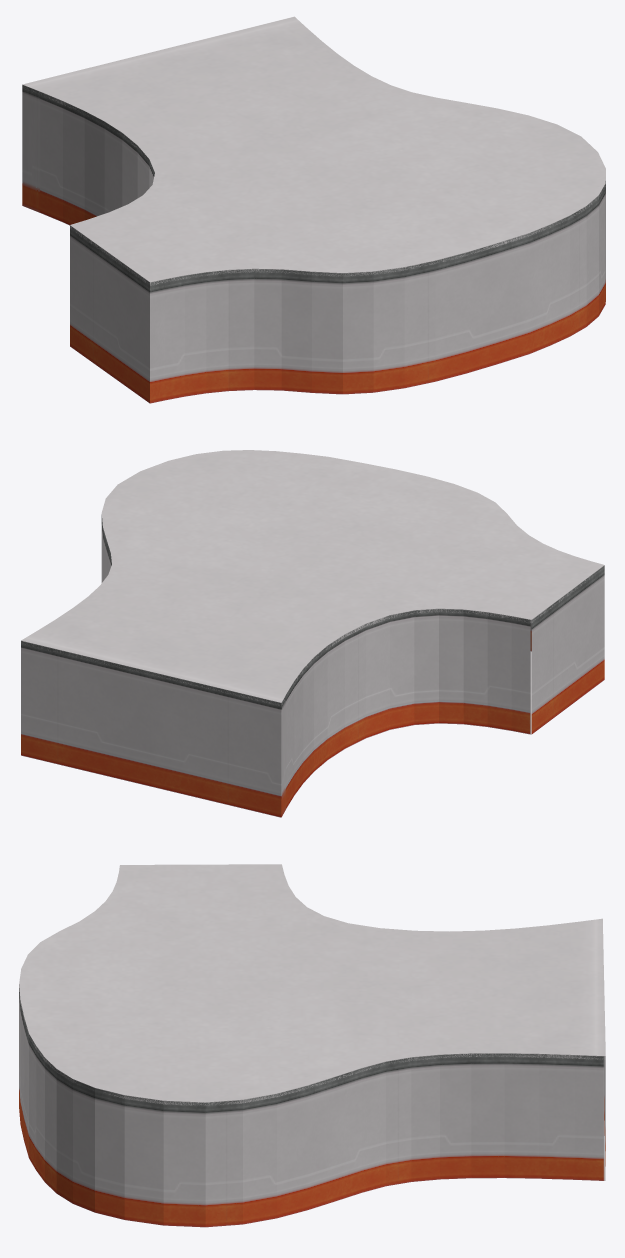
Rendered from Lobby_Environ.fbx.
3 renders of one model, top to bottom at view 1: azimuth 30°, elevation 25°; view 2: azimuth 150°, elevation 25°; view 3: azimuth 270°, elevation 25°, orthographic. The views are drawn at different scales.
Visible parts, largest first — view 1: LobbyRoof, Lobby; view 2: LobbyRoof, Lobby; view 3: LobbyRoof, Lobby.
Boxes of the visible parts, left/top/right/bottom form: LobbyRoof: left=22, top=16, right=605, bottom=285; Lobby: left=22, top=85, right=605, bottom=403; LobbyRoof: left=21, top=450, right=604, bottom=705; Lobby: left=21, top=515, right=604, bottom=817; LobbyRoof: left=19, top=864, right=605, bottom=1105; Lobby: left=19, top=988, right=605, bottom=1227.
Size of the model in its own units: 13.84 by 3.7 by 14.4.
